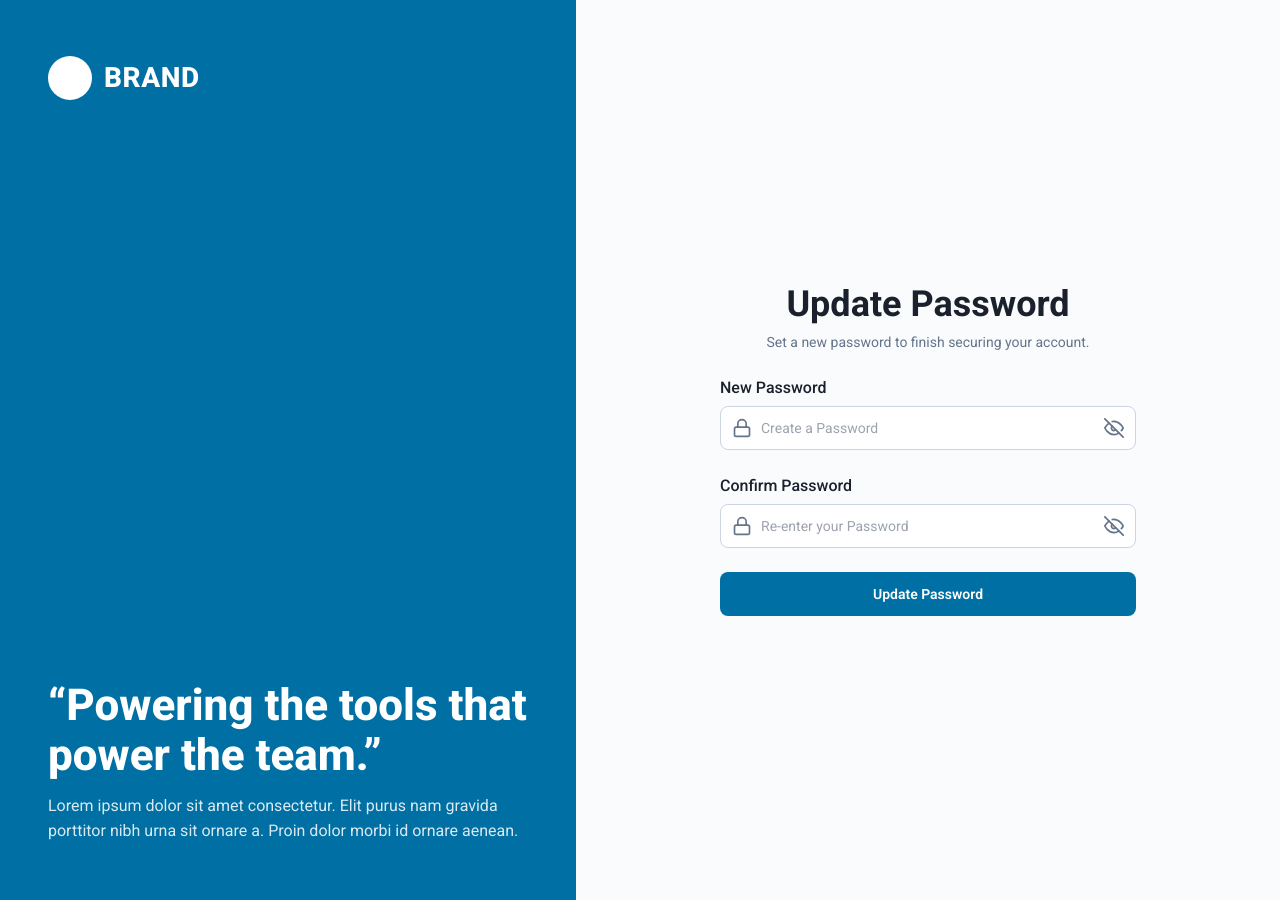
Scenario: ChangePasswordPage › shows a mismatch error and does not submit when passwords differ
The image size is (1280, 900).
Type "BrandNew123" into the password field with test id "change-password-new".
click(928, 428); type("BrandNew123")  # box [720,406,1136,450]
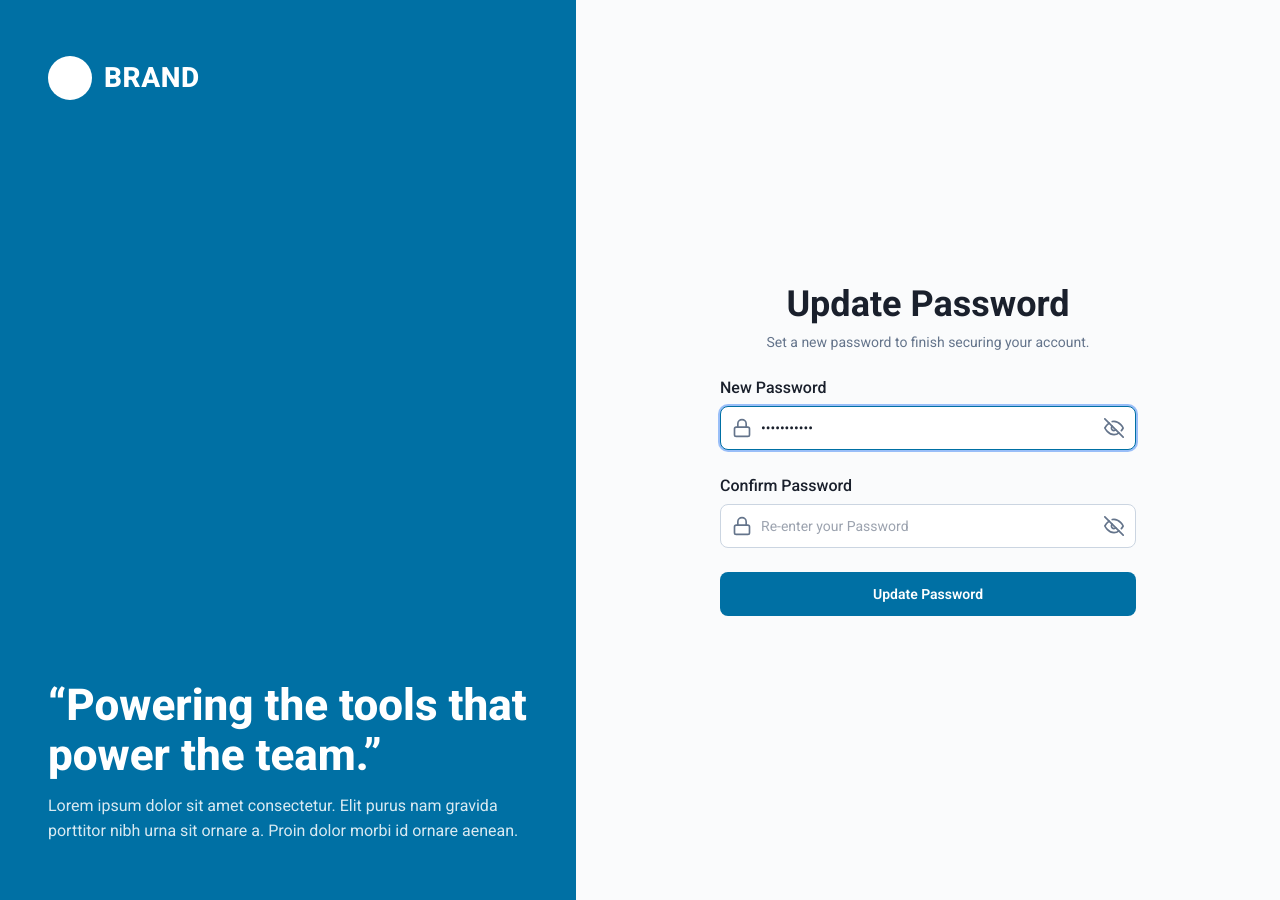
Type "Different123" into the password field with test id "change-password-confirm".
click(928, 526); type("Different123")  # box [720,504,1136,548]
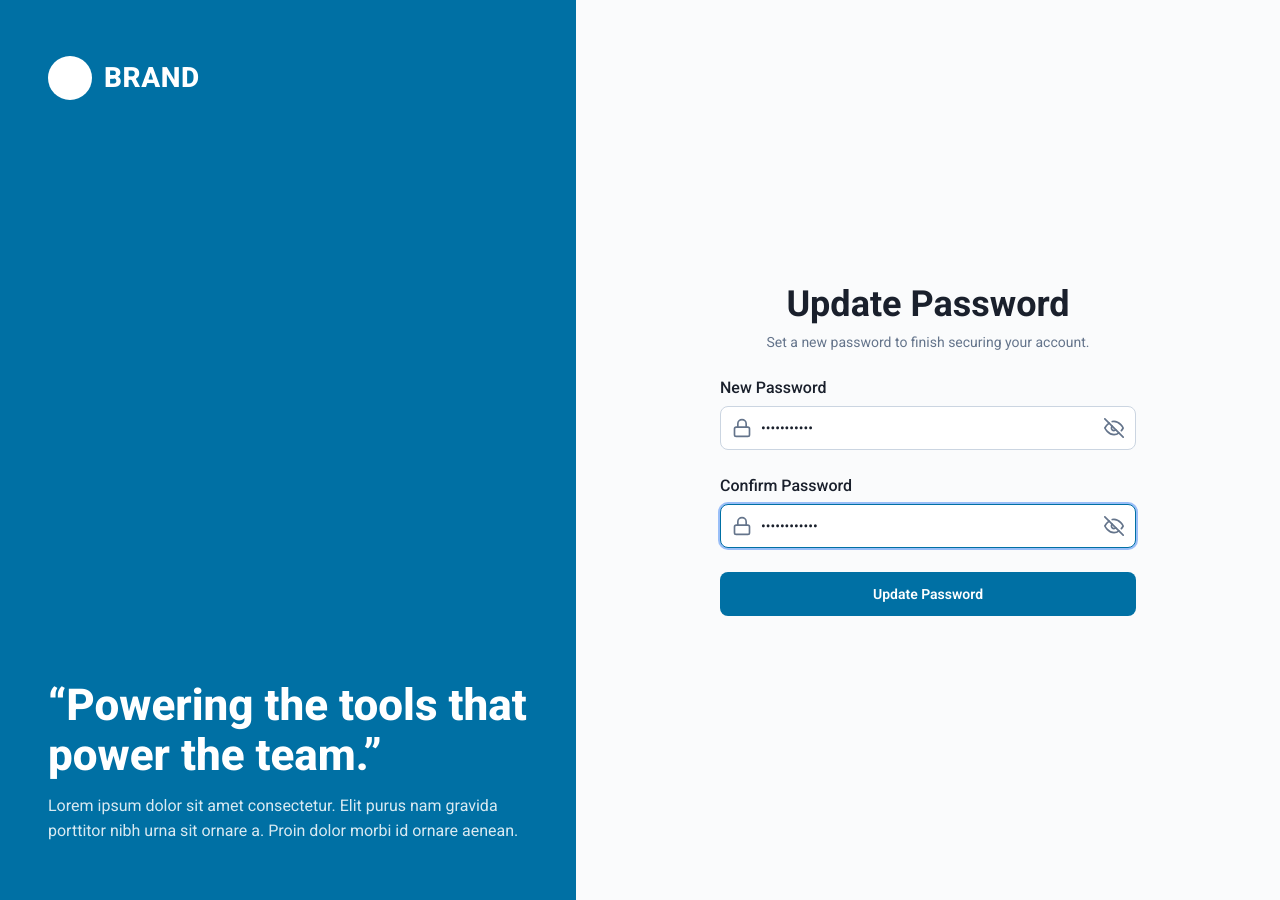
Click the button with test id "change-password-submit".
click(928, 594)  # box [720,572,1136,616]
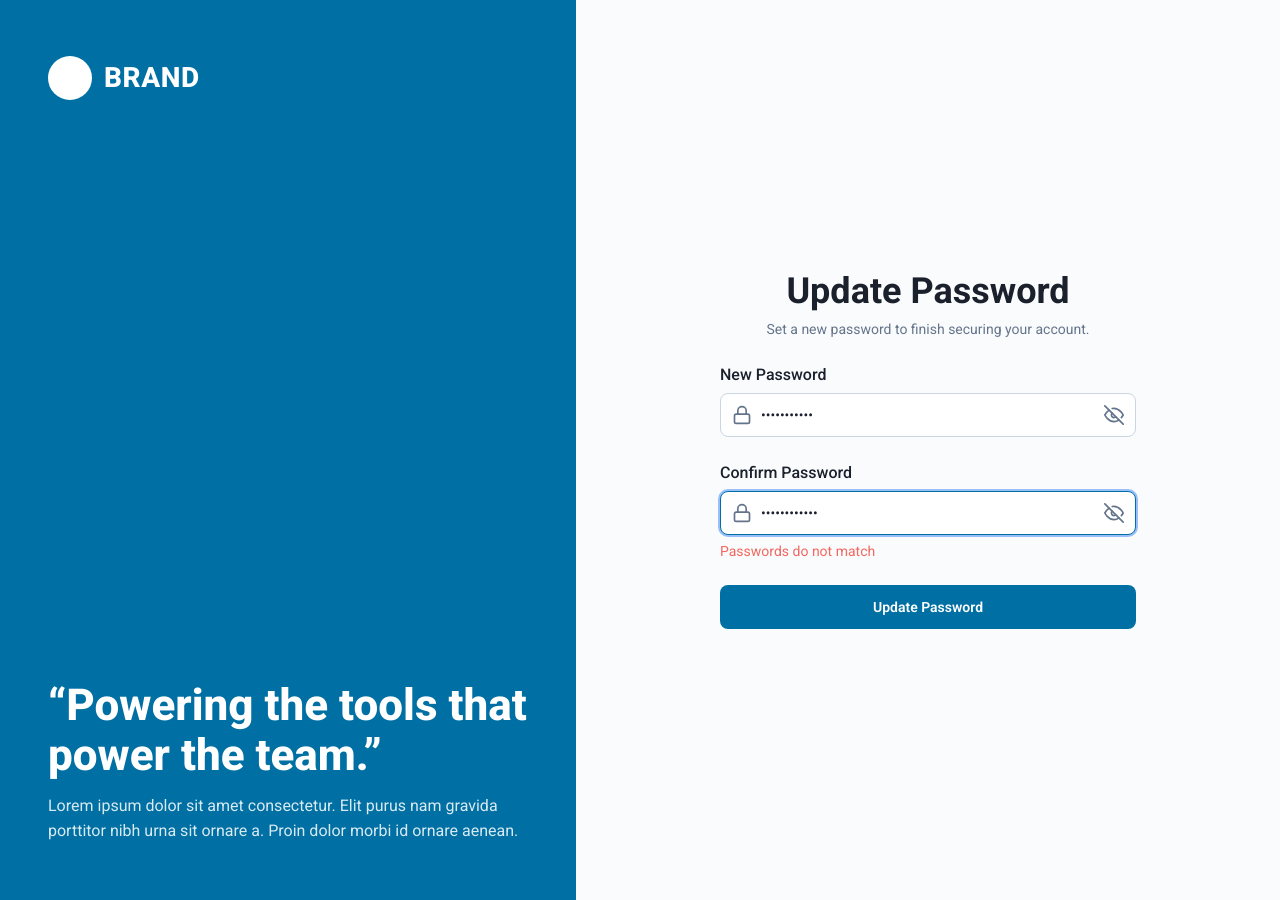
expect the text with test id "change-password-confirm-error" shows "do not match": met, box [720,543,875,559]
